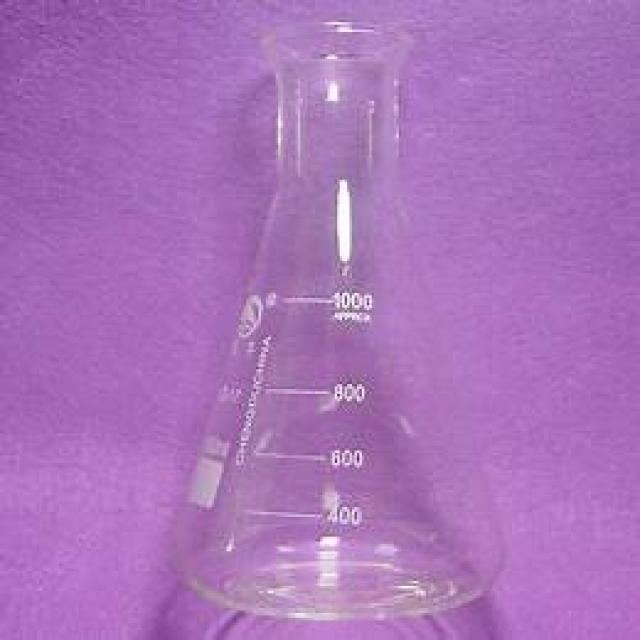Titrarion: (170, 21, 511, 624)
